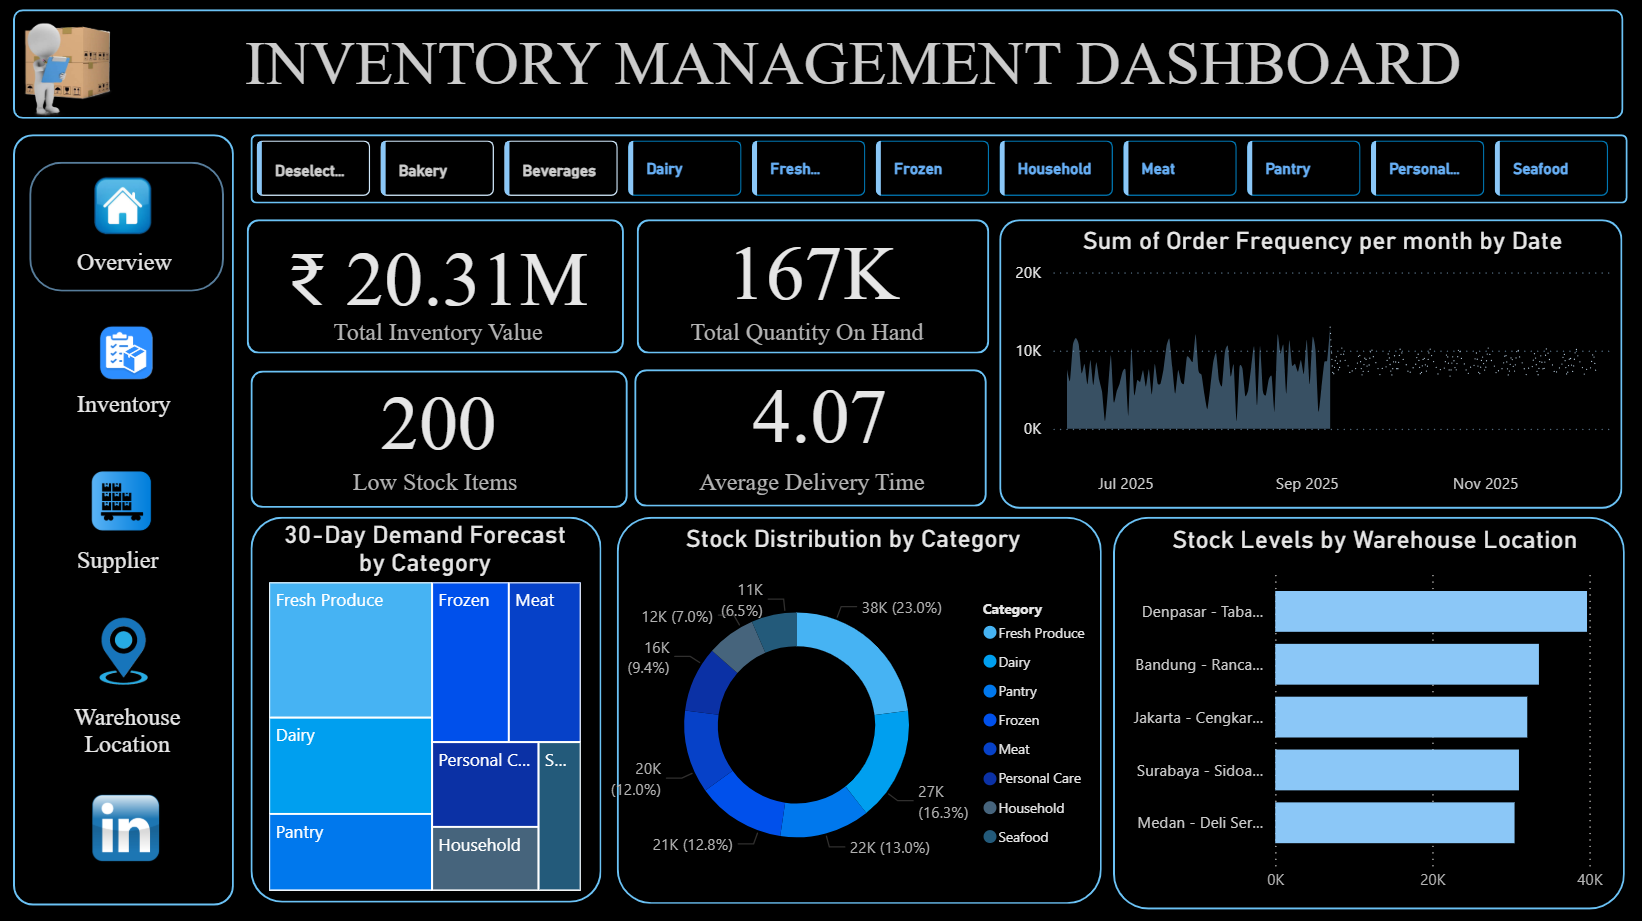

What the dashboard file says about the page in this screenshot:
{"tool":"powerbi","page":{"name":"Overview","canvas":[1280,720],"ordinal":0},"visuals":[{"type":"shape","box":[12,105.5,171.4,598.1],"z":0},{"type":"shape","box":[24,127,151,100.7],"z":1000},{"type":"shape","box":[12,8.4,1248.8,85.1],"z":2000},{"type":"shape","box":[495,171.4,273.3,104.3],"z":3000},{"type":"shape","box":[864.7,402.2,397,304.5],"z":4000},{"type":"shape","box":[195.4,402.2,272.3,299.3],"z":5000},{"type":"shape","box":[776.3,171.5,483.3,224.5],"z":6000},{"type":"shape","box":[480.1,402.2,376.2,300.3],"z":7000},{"type":"textbox","box":[99.8,18.4,1126.3,87.2],"z":8000},{"type":"shape","box":[193,171.4,292.4,104.3],"z":9000},{"type":"card","fields":{"Values":["Sum(Inventory Management E-Grocery - InventoryData.Total Inventory Value USD)"]},"box":[218.1,177.4,246.9,69.5],"z":10000},{"type":"shape","box":[195.4,288.8,292.4,106.7],"z":11000},{"type":"shape","box":[493.8,287.6,273.3,106.7],"z":12000},{"type":"textbox","box":[231.3,243.3,219.3,40.7],"z":13000},{"type":"card","fields":{"Values":["Sum(Inventory Management E-Grocery - InventoryData.Quantity On Hand)"]},"box":[509.4,171.4,246.9,71.9],"z":14000},{"type":"card","fields":{"Values":["Avg(Inventory.Lead Time Days)"]},"box":[514.4,283.7,246.3,69.6],"z":15000},{"type":"textbox","box":[486.6,243.3,281.6,45.5],"z":16000},{"type":"card","fields":{"Values":["Inventory.Low Stock Items"]},"box":[218.2,287.9,247.3,71.7],"z":17000},{"type":"textbox","box":[495.7,359.6,267.1,36.4],"z":18000},{"type":"textbox","box":[193.3,359.6,292,36.4],"z":19000},{"type":"donutChart","title":"Stock Distribution by Category","fields":{"Y":["Sum(Inventory.Quantity On Hand)"],"Category":["Inventory.Category"]},"box":[469.7,408.4,386.6,290],"z":20000},{"type":"barChart","title":"Stock Levels by Warehouse Location","fields":{"Category":["Inventory.Warehouse Location"],"Y":["Sum(Inventory.Quantity On Hand)"]},"box":[864.7,409.5,406.4,293.1],"z":21000},{"type":"treemap","title":"30-Day Demand Forecast by Category","fields":{"Values":["Sum(Inventory.Quantity On Hand)"],"Group":["Inventory.Category"]},"box":[205.8,405.3,251.5,292],"z":22000},{"type":"shape","box":[195.4,105.5,1067.9,53.9],"z":23000},{"type":"advancedSlicerVisual","fields":{"Values":["Inventory.Category"]},"box":[195.4,105.5,1064.3,53.9],"z":24000},{"type":"image","box":[37.4,221.4,123.7,108.1],"z":25000},{"type":"image","box":[64.4,129.9,65.5,59.2],"z":26000},{"type":"textbox","box":[56.1,189.1,96.7,45.7],"z":27000},{"type":"textbox","box":[56.1,299.3,107,42.6],"z":28000},{"type":"image","box":[62.4,359.6,67.6,61.3],"z":29000},{"type":"textbox","box":[56.3,420.7,97.1,38.4],"z":30000},{"type":"image","box":[10.8,8.4,88.7,97.1],"z":31000},{"type":"image","box":[53.3,458.3,88.3,96.7],"z":32000},{"type":"textbox","box":[36.7,541.7,126.7,70],"z":33000},{"type":"image","box":[47.9,593.3,103.1,100.7],"z":34000},{"type":"lineChart","title":"Sum of Order Frequency per month by Date","fields":{"Y":["Sum(Inventory.Order Frequency per month)"],"Category":["Inventory.Audit Date.Variation.Date Hierarchy.Year","Inventory.Audit Date.Variation.Date Hierarchy.Quarter","Inventory.Audit Date.Variation.Date Hierarchy.Month","Inventory.Audit Date.Variation.Date Hierarchy.Day"]},"box":[784.6,177.7,486.4,217.2],"z":35000}]}

Visuals, with their boxes in screenshot pixels (x1, y1, x2, y2), scaled from the page's 1280x720 canvas onto the 1642x921 screenshot:
shape: box=[15, 135, 235, 900]
shape: box=[31, 162, 224, 291]
shape: box=[15, 11, 1617, 120]
shape: box=[635, 219, 986, 353]
shape: box=[1109, 514, 1619, 904]
shape: box=[251, 514, 600, 897]
shape: box=[996, 219, 1616, 507]
shape: box=[616, 514, 1098, 899]
textbox: box=[128, 24, 1573, 135]
shape: box=[248, 219, 623, 353]
card - Sum(Inventory Management E-Grocery - InventoryData.Total Inventory Value USD): box=[280, 227, 597, 316]
shape: box=[251, 369, 626, 506]
shape: box=[633, 368, 984, 504]
textbox: box=[297, 311, 578, 363]
card - Sum(Inventory Management E-Grocery - InventoryData.Quantity On Hand): box=[653, 219, 970, 311]
card - Avg(Inventory.Lead Time Days): box=[660, 363, 976, 452]
textbox: box=[624, 311, 985, 369]
card - Inventory.Low Stock Items: box=[280, 368, 597, 460]
textbox: box=[636, 460, 979, 507]
textbox: box=[248, 460, 623, 507]
"Stock Distribution by Category" donutChart: box=[603, 522, 1098, 893]
"Stock Levels by Warehouse Location" barChart: box=[1109, 524, 1631, 899]
"30-Day Demand Forecast by Category" treemap: box=[264, 518, 587, 892]
shape: box=[251, 135, 1621, 204]
advancedSlicerVisual - Inventory.Category: box=[251, 135, 1616, 204]
image: box=[48, 283, 207, 421]
image: box=[83, 166, 167, 242]
textbox: box=[72, 242, 196, 300]
textbox: box=[72, 383, 209, 437]
image: box=[80, 460, 167, 538]
textbox: box=[72, 538, 197, 587]
image: box=[14, 11, 128, 135]
image: box=[68, 586, 182, 710]
textbox: box=[47, 693, 210, 782]
image: box=[61, 759, 194, 888]
"Sum of Order Frequency per month by Date" lineChart: box=[1006, 227, 1630, 505]
